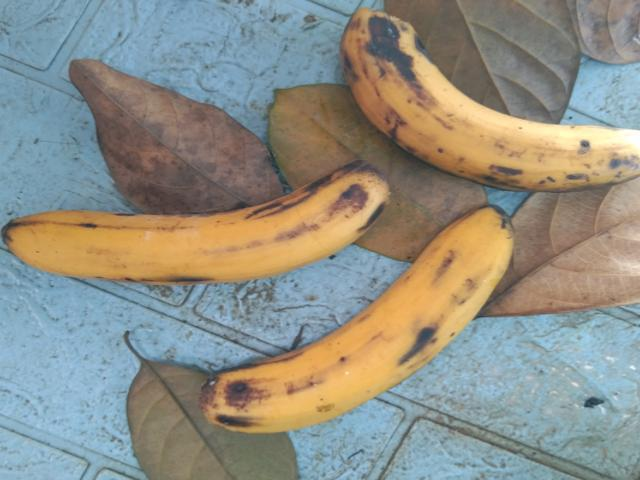overripe: (0, 155, 387, 323), (338, 2, 639, 207)
ripe: (184, 184, 533, 448)
